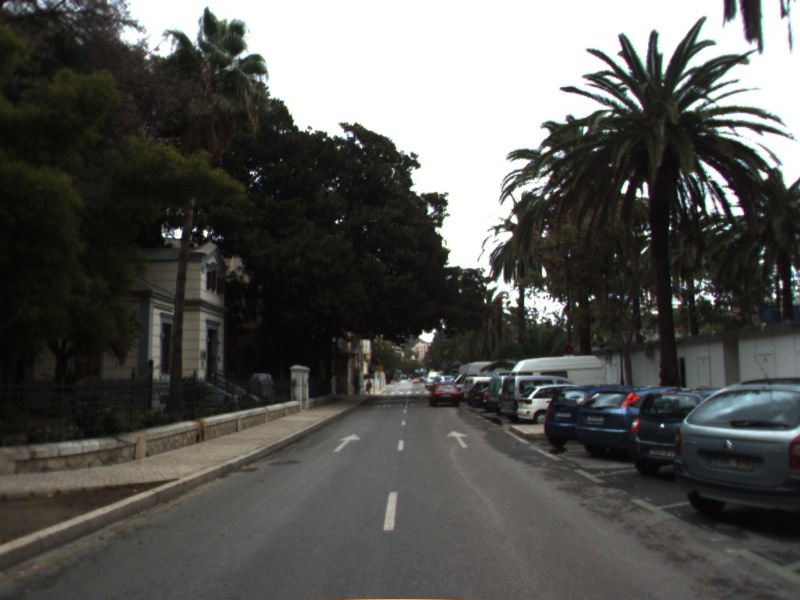STRAIGHT: (331, 432, 363, 454), (444, 429, 472, 450)
